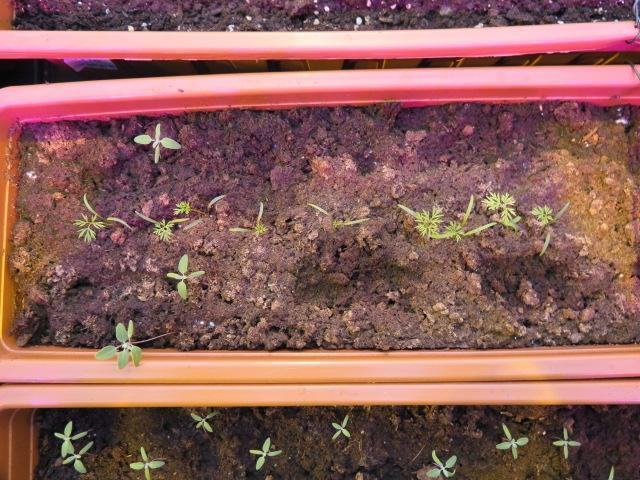weed: (130, 115, 182, 163), (163, 249, 207, 301), (493, 418, 529, 461), (245, 432, 283, 472), (548, 420, 581, 461), (423, 444, 458, 478), (186, 404, 221, 434), (327, 408, 351, 442)
